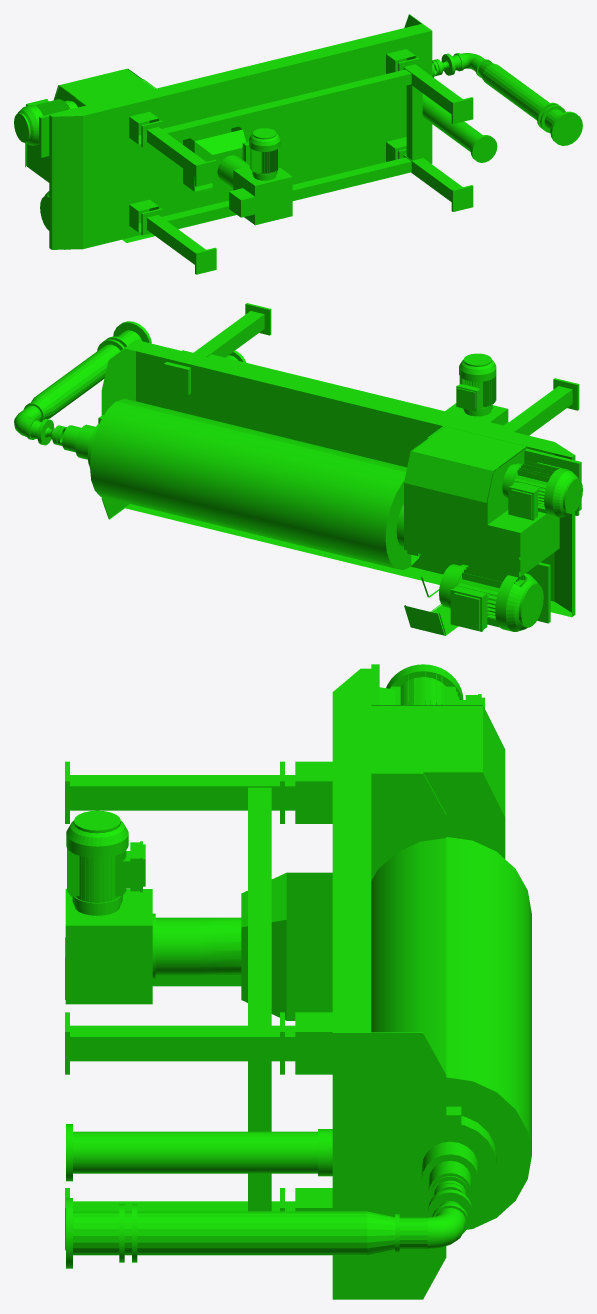
File: decanter_green.glb
3 renders of one model, top to bottom at view 1: azimuth 30°, elevation 25°; view 2: azimuth 150°, elevation 25°; view 3: azimuth 270°, elevation 25°, orthographic. The views are drawn at different scales.
Visible parts, largest first — view 1: Object_3; view 2: Object_3; view 3: Object_3.
Part boxes in pixels (<box>): Object_3: <box>14,14,582,274</box>; Object_3: <box>14,303,582,635</box>; Object_3: <box>65,664,531,1299</box>.
Bounding box in the file's own units: 116 × 34.62 × 49.76.
